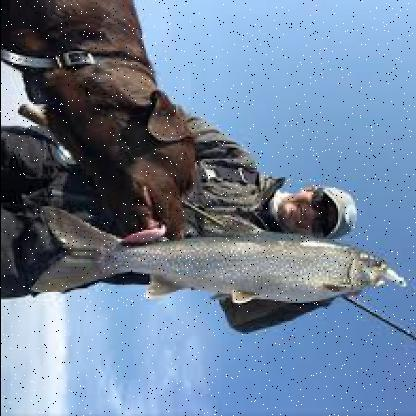fish: (36, 196, 408, 308)
